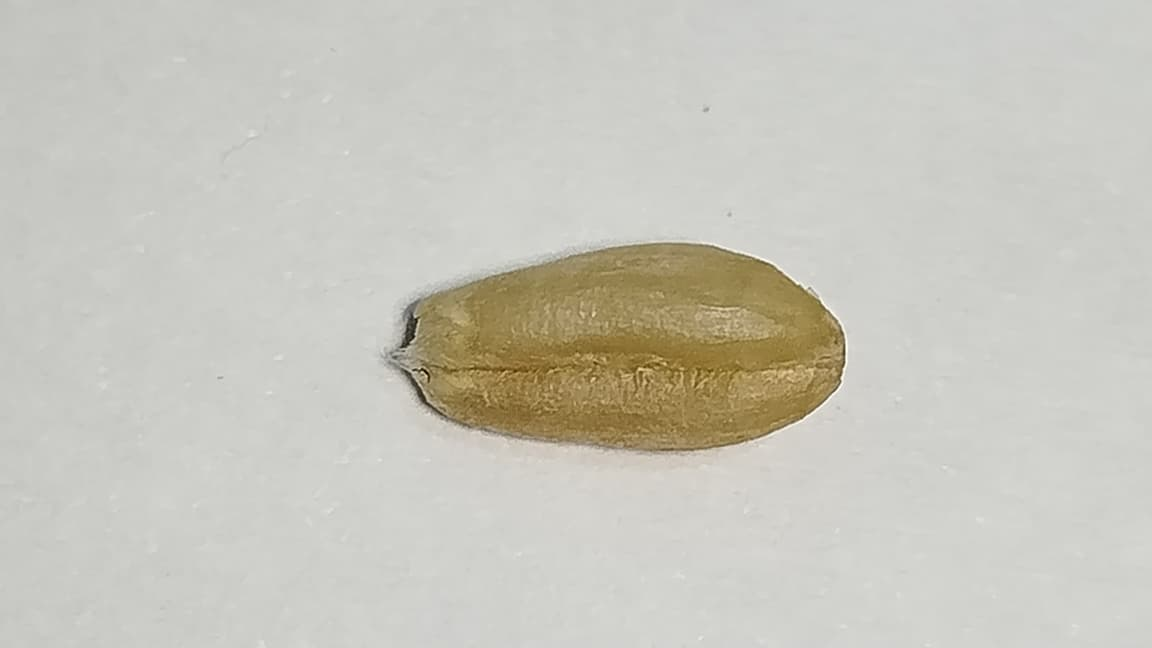healthy: (396, 243, 844, 448)
